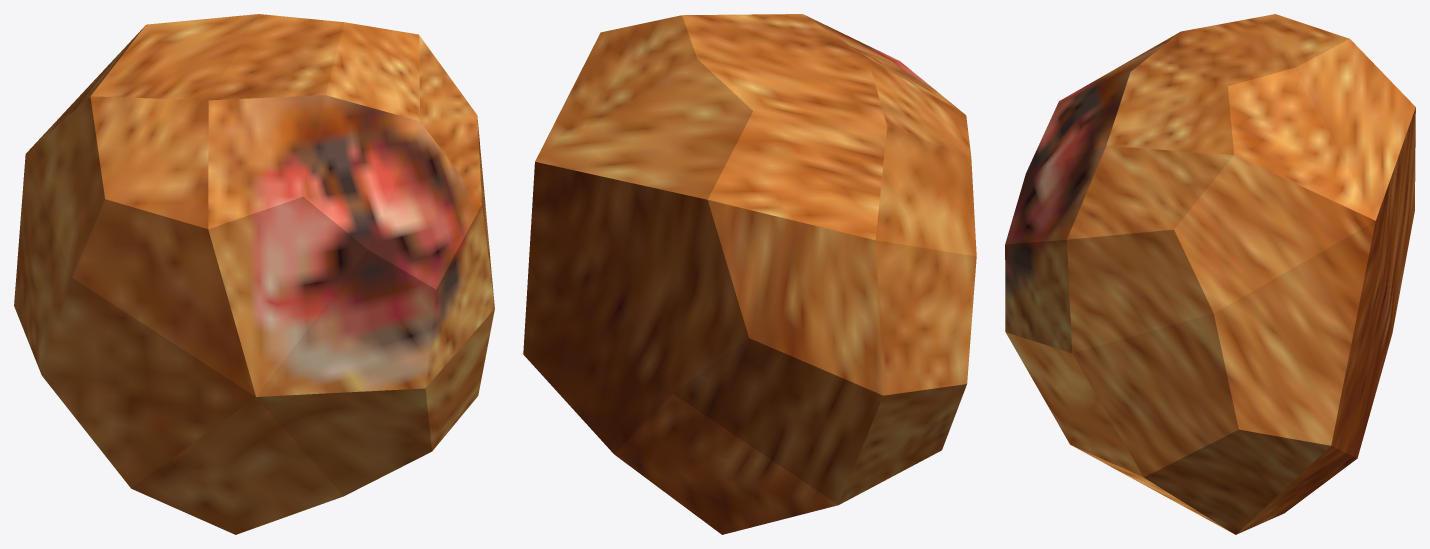
Rendered from conbabutt.obj.
The picture shows the model from 3 angles, left to right: view 1: azimuth 30°, elevation 25°; view 2: azimuth 150°, elevation 25°; view 3: azimuth 270°, elevation 25°; orthographic projection. The views are drawn at different scales.
Visible parts, largest first — view 1: conbabutt; view 2: conbabutt; view 3: conbabutt.
Part boxes in pixels (x1,y1,x2,y2): conbabutt: (14,14,494,534); conbabutt: (523,14,976,534); conbabutt: (1005,14,1415,534).
Bounding box in the file's own units: 0.4508 × 0.4821 × 0.3905.
